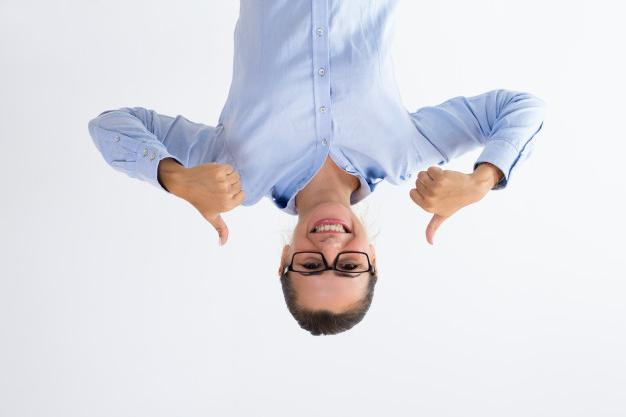thumbsdown: (203, 163, 245, 247), (409, 166, 451, 246)
